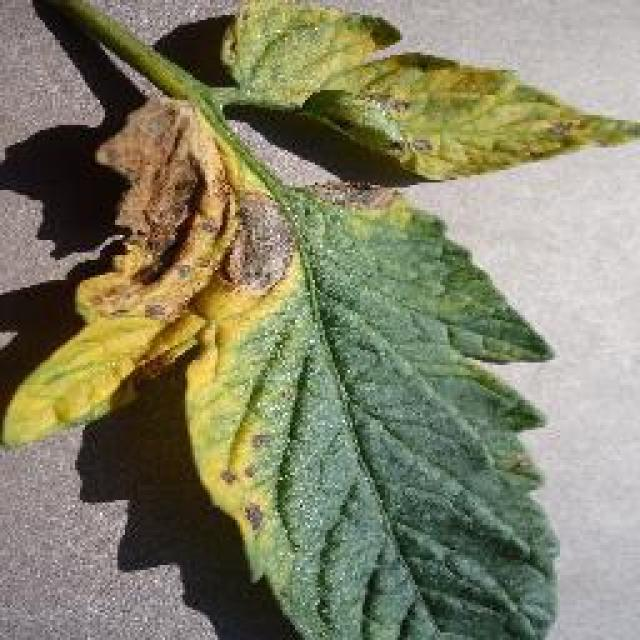Tomato___Early_blight: (0, 0, 638, 638)
